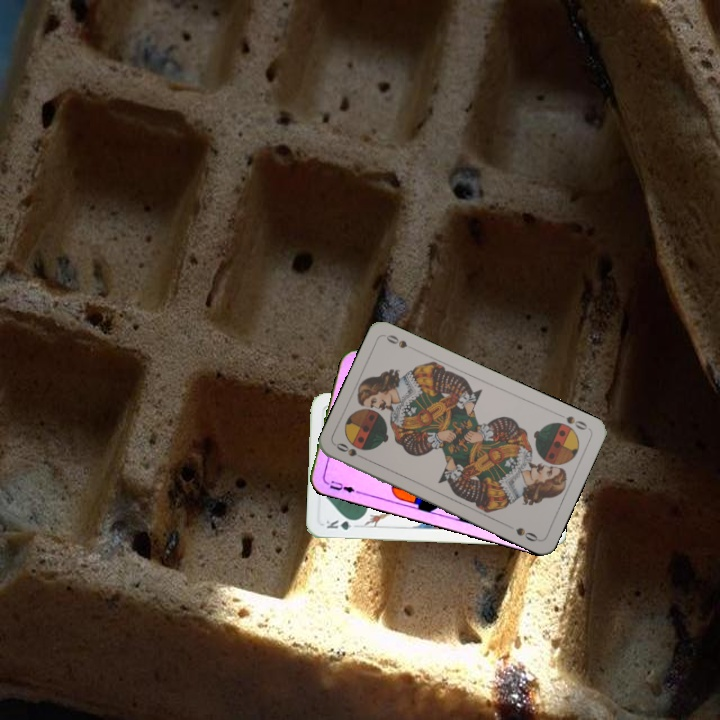EU: (321, 477, 361, 496)
GK: (322, 516, 361, 532)
SO: (332, 439, 370, 463), (562, 412, 590, 432)
